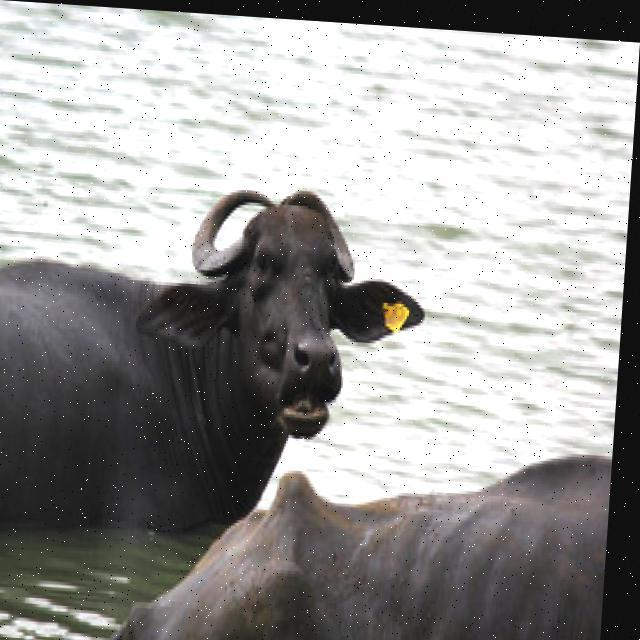Buffalo: (0, 162, 433, 561)
